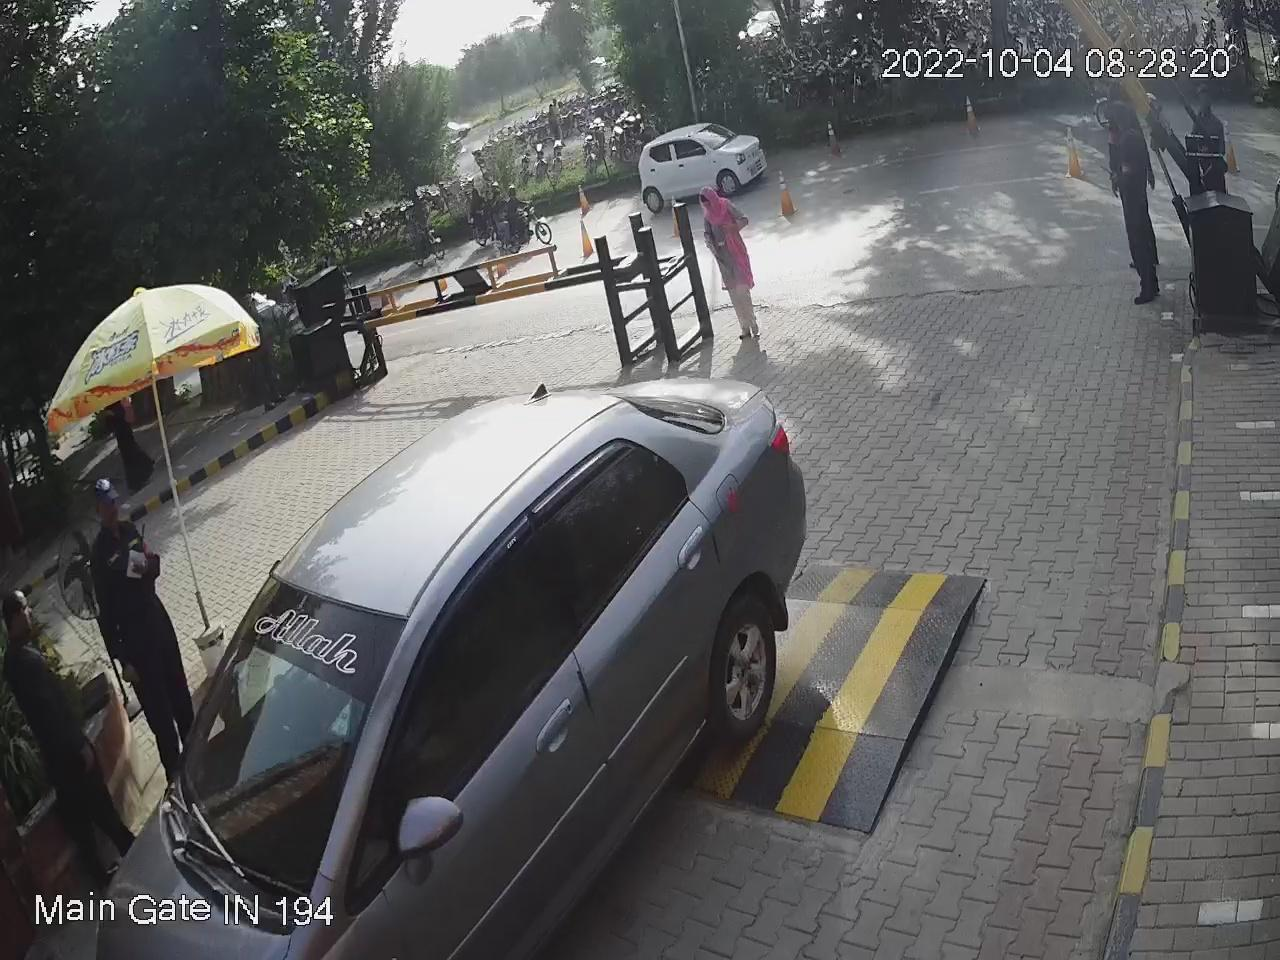windshield: (163, 568, 408, 918)
